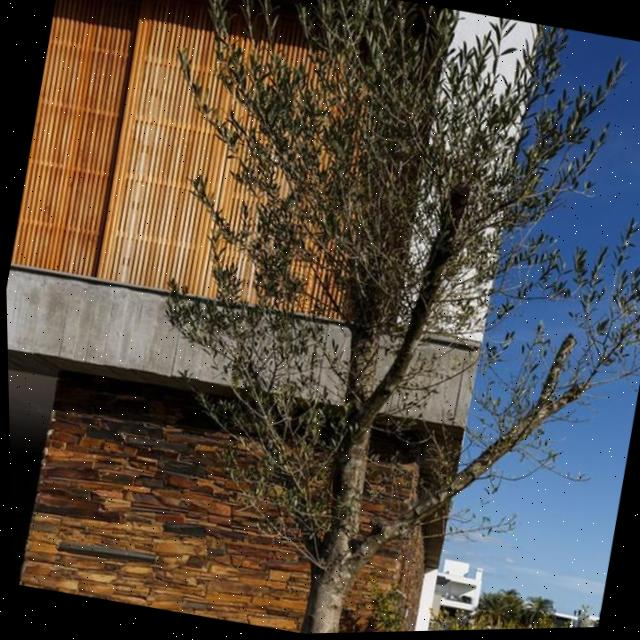building: (0, 0, 542, 640)
